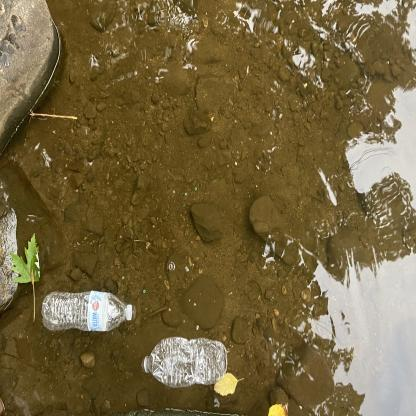trash: (38, 284, 138, 339), (140, 333, 234, 390)
